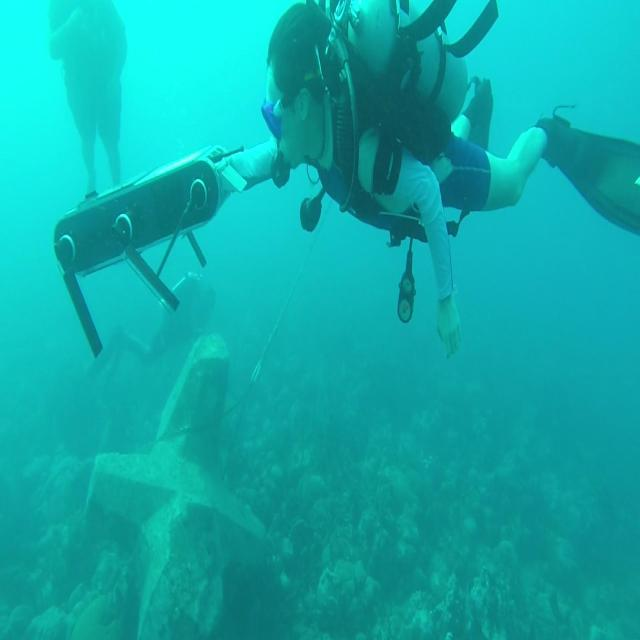human: (260, 1, 639, 358), (47, 0, 127, 200), (127, 270, 228, 382)
